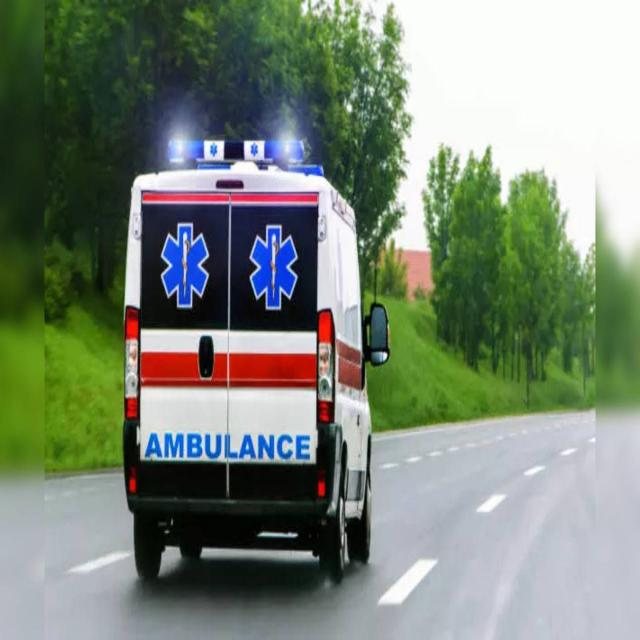ambulance: (124, 138, 385, 580)
